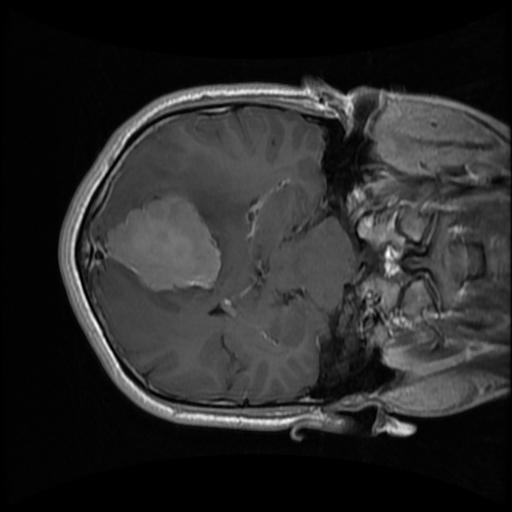meningioma: (106, 197, 220, 292)
